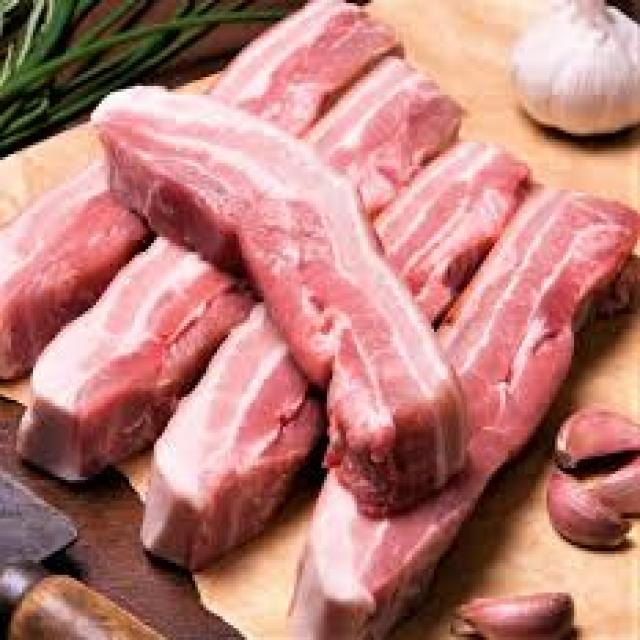pork: (93, 86, 470, 517), (297, 193, 640, 639), (19, 237, 255, 481), (143, 305, 324, 570), (0, 163, 151, 381), (376, 142, 530, 323), (308, 56, 464, 216), (212, 3, 398, 136)
